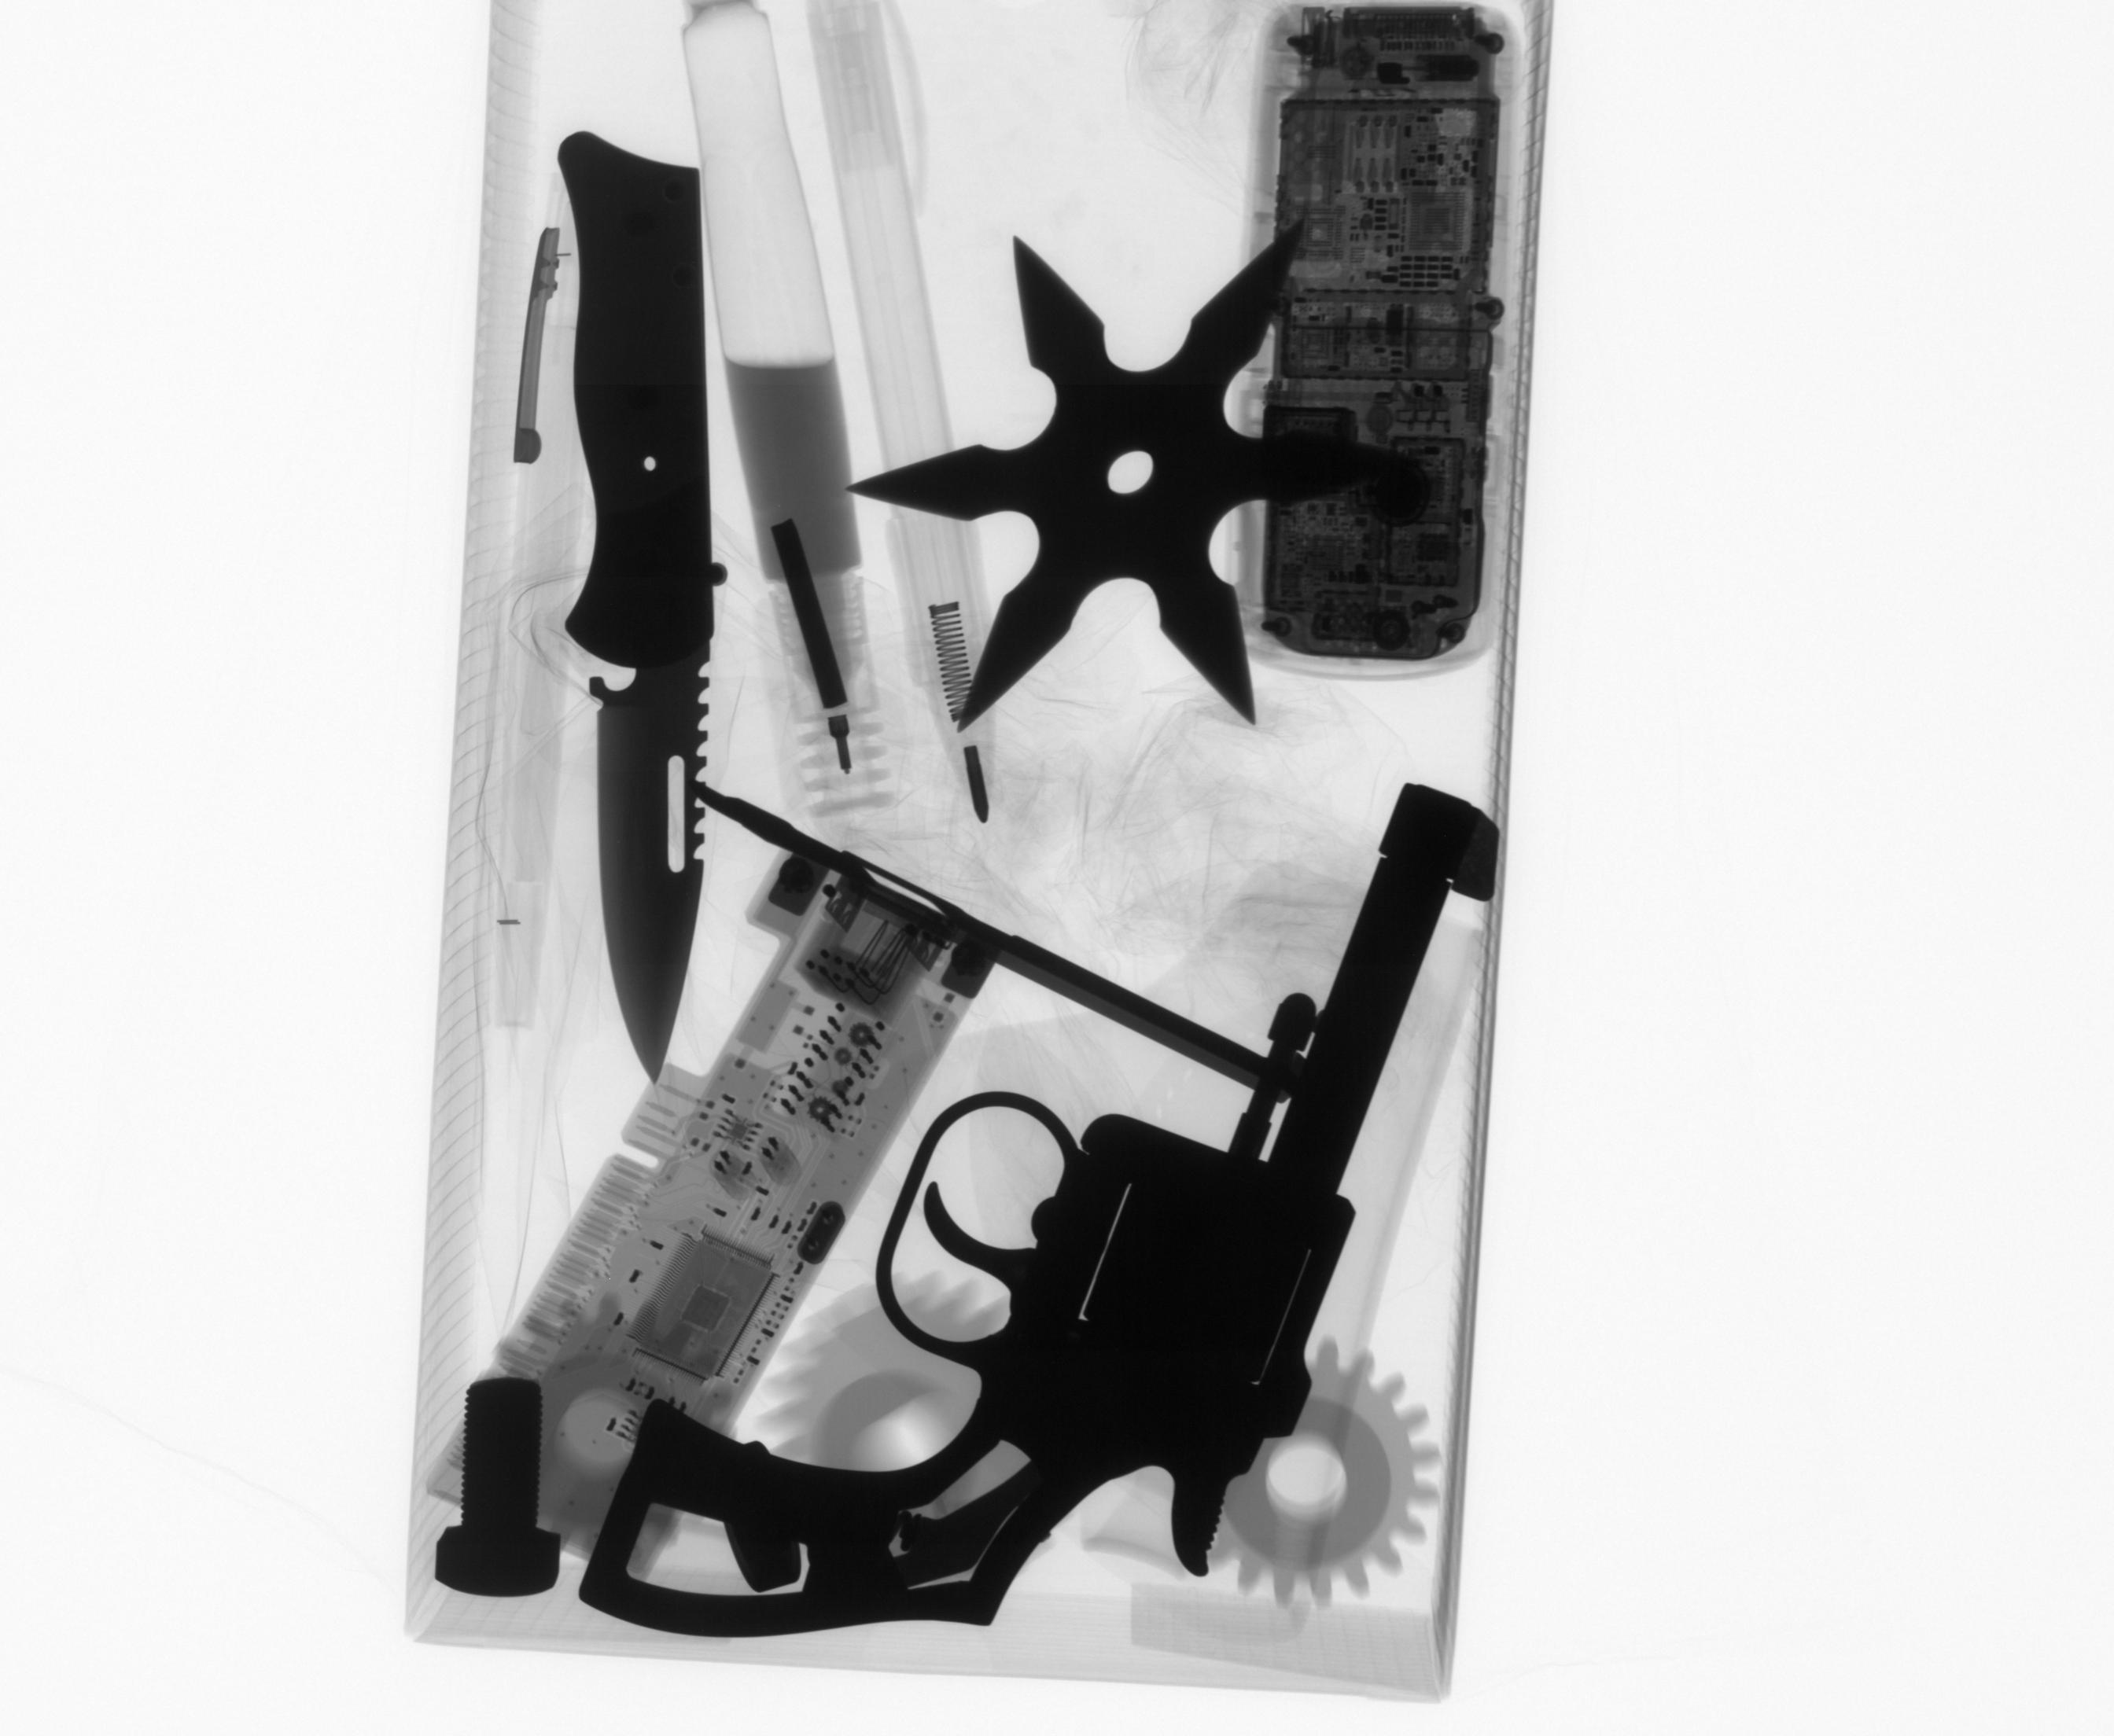Handgun: (573, 776, 1505, 1660)
Knife: (549, 123, 736, 1094)
Shuriken: (837, 223, 1408, 737)
